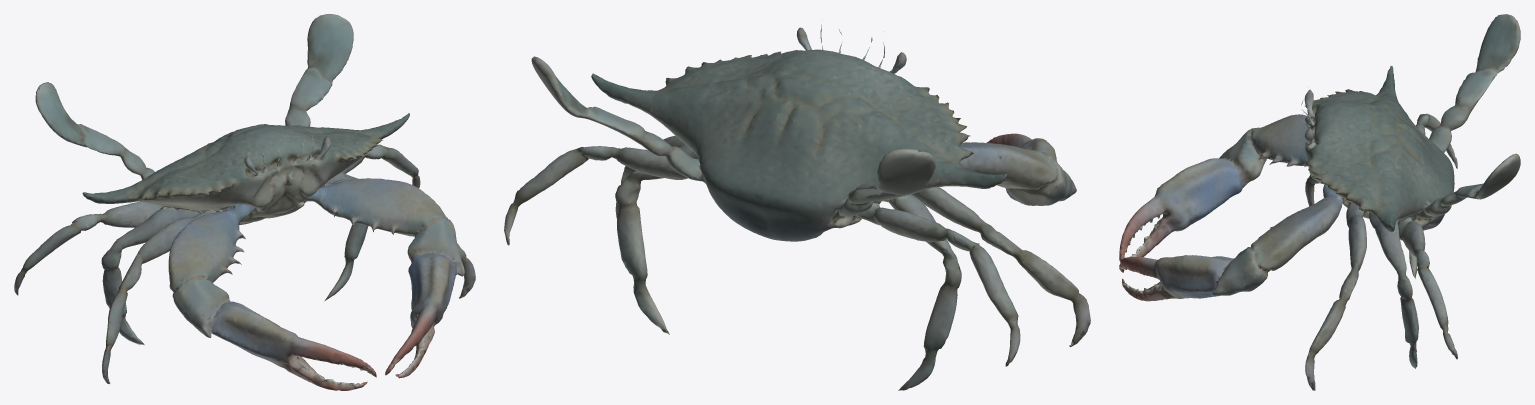
Rendered from crab.glb.
3 views of the same model, side by side, from view 1: azimuth 30°, elevation 25°; view 2: azimuth 150°, elevation 25°; view 3: azimuth 270°, elevation 25° (orthographic). The views are drawn at different scales.
Visible parts, largest first — view 1: decimated; view 2: decimated; view 3: decimated.
Boxes of the visible parts, <box> form: decimated: <box>14,14,475,390</box>; decimated: <box>504,19,1090,390</box>; decimated: <box>1119,14,1520,390</box>.
Bounding box in the file's own units: 2.01 × 1.13 × 1.73.
